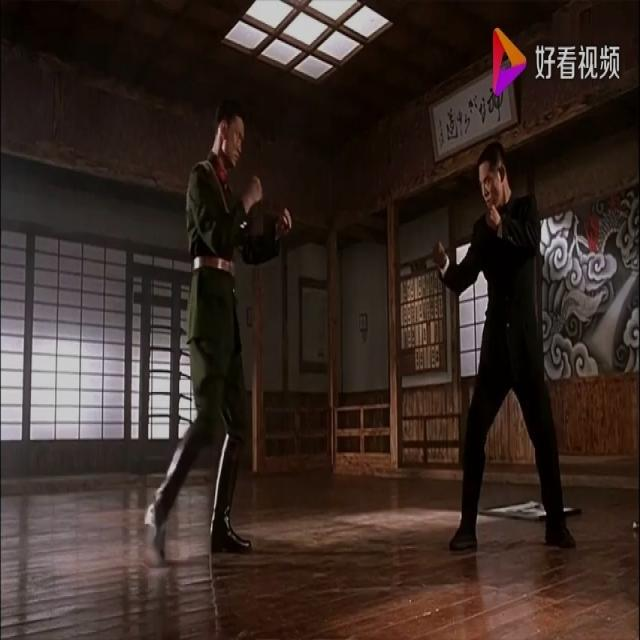fight: (145, 113, 576, 563)
